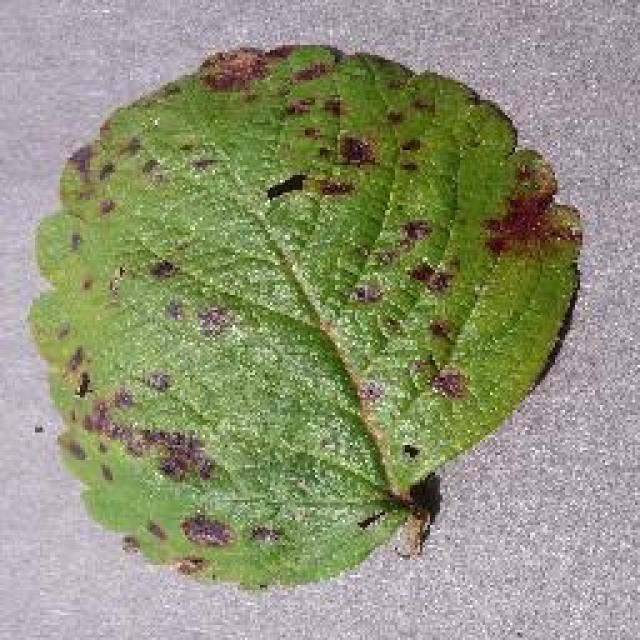Strawberry leaf scorch: (62, 50, 610, 513)
